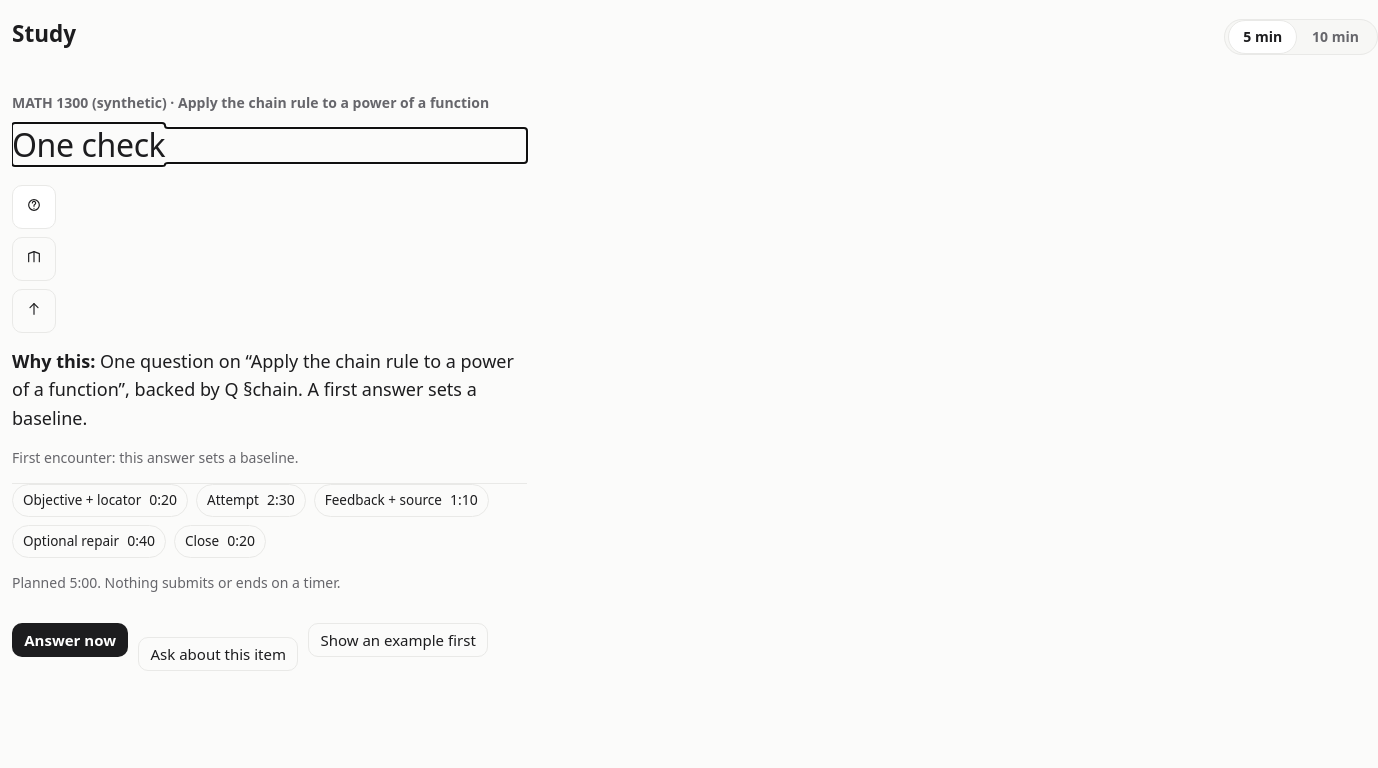
Scenario: StudyView journey › learn mode shows the example first and labels the result as learning
expect the heading "One check" is shown: met, box [12, 123, 165, 166]
Click the button "Show an example first" at (398, 640), box [308, 623, 488, 657]
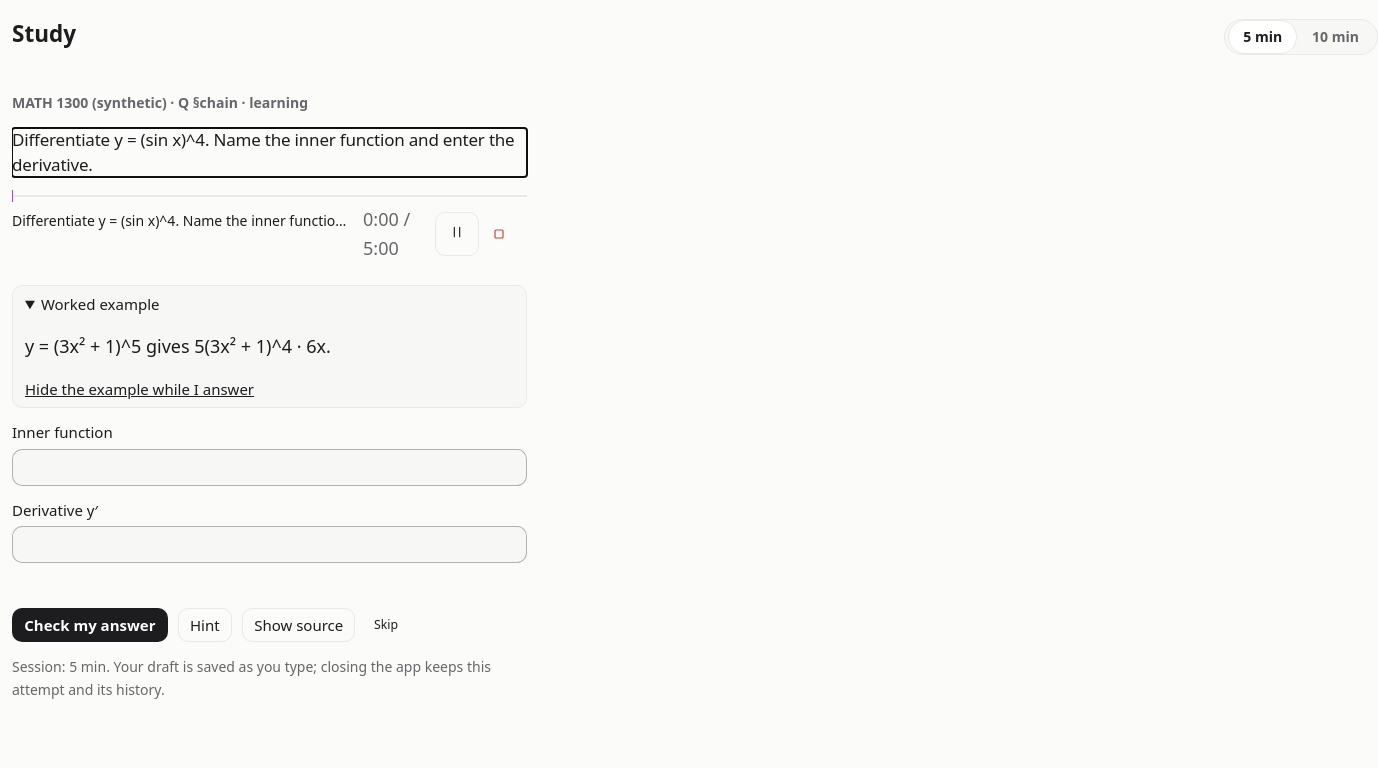
expect the heading "Worked example" is shown: met, box [41, 294, 160, 314]
Type "sin x" into the field labelled "Inner function" at (269, 467), box [12, 448, 527, 486]
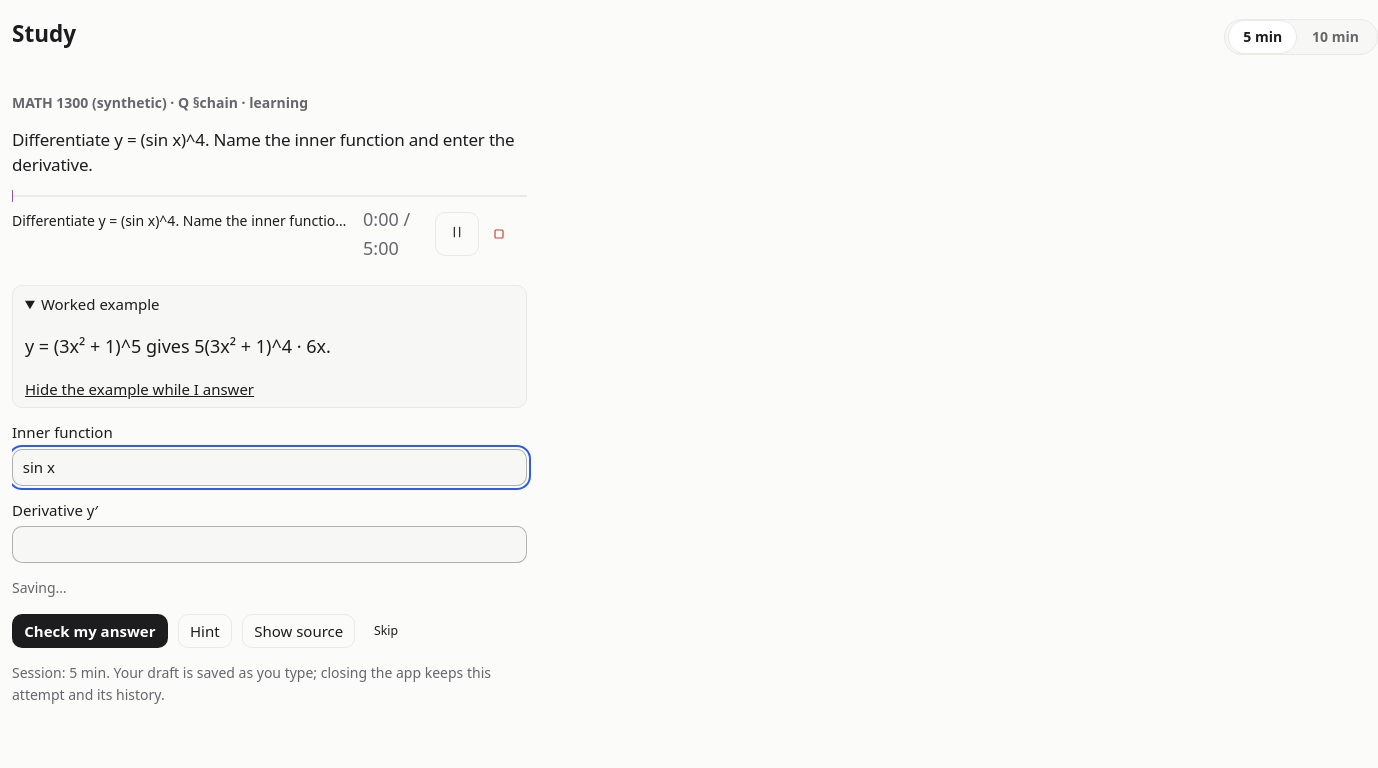
Type "4 sin^3 x cos x" into the field labelled "Derivative y′" at (269, 545), box [12, 526, 527, 563]
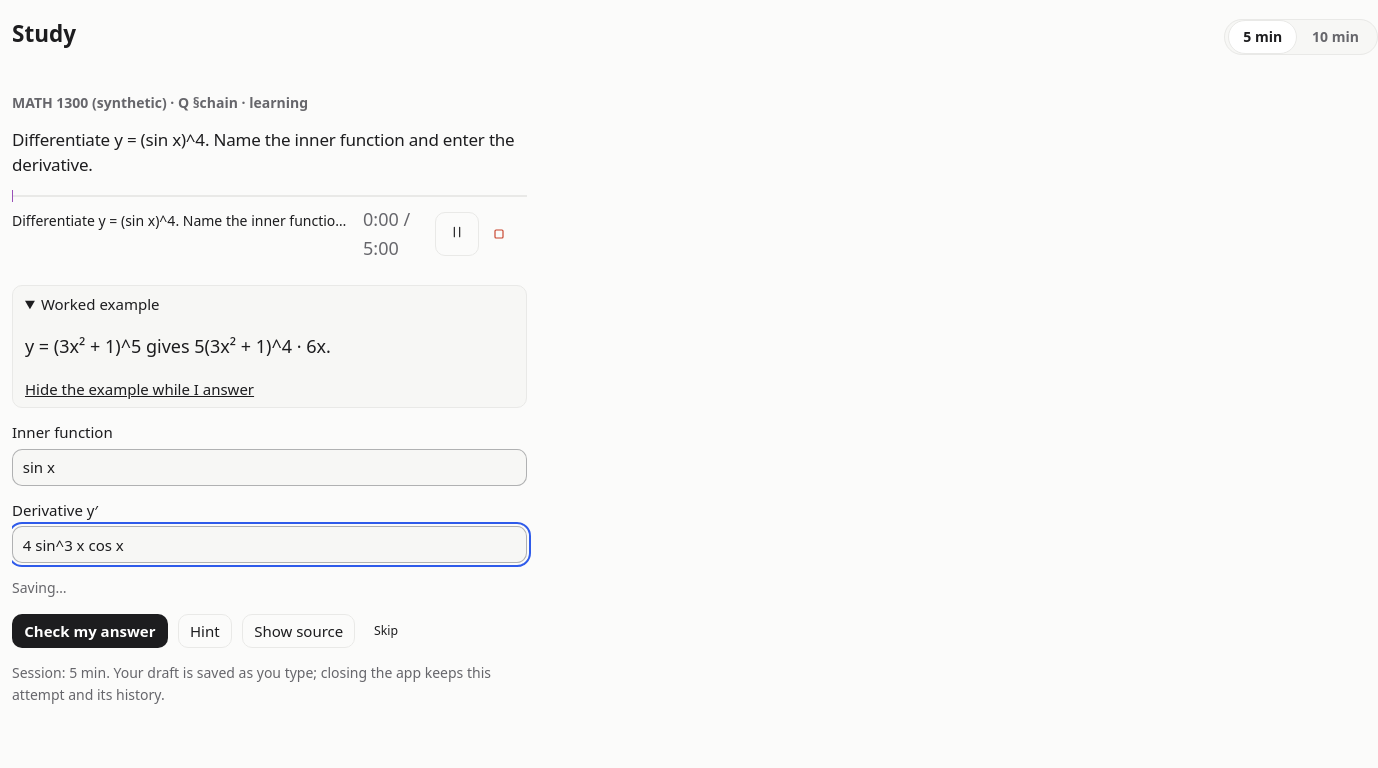
Click the button "Check my answer" at (90, 631), box [12, 614, 168, 648]
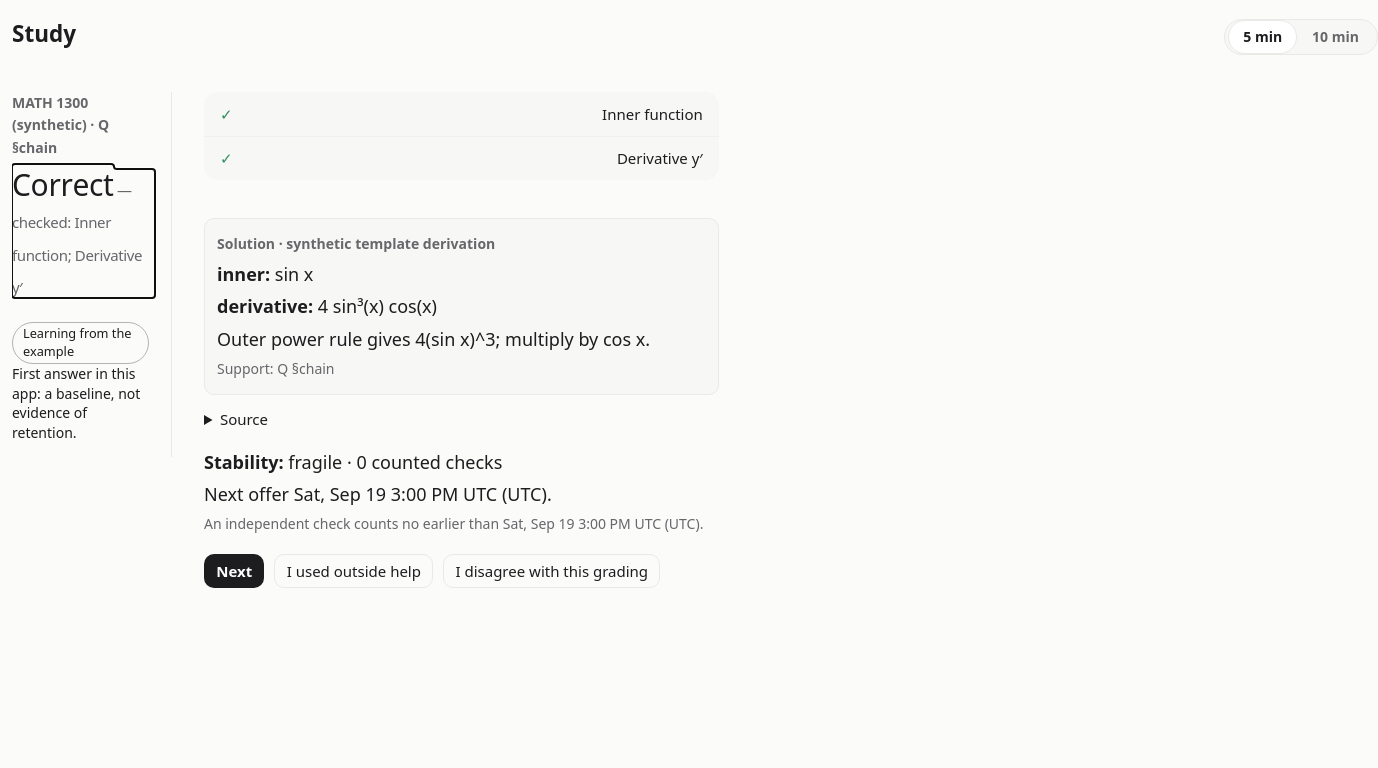
expect the heading named "Correct" is shown: met, box [12, 169, 155, 298]
expect the text "Learning from the example" is shown: met, box [12, 322, 149, 364]
